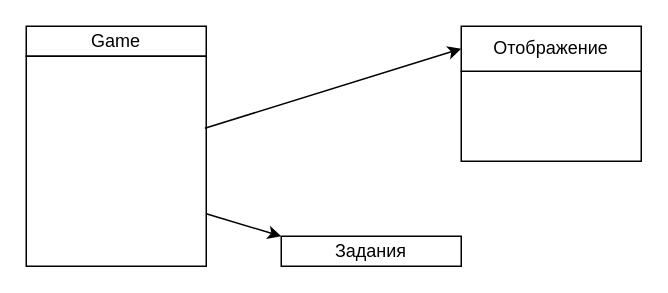
Some shapes in this 668 by 293 pixel diagram are drawn without their labels. Each missing label, with the centre of its shape:
"имя игрока Отображение деньги рабочие материялы задания" goes at [115,160].
"локации" goes at [550,115].
